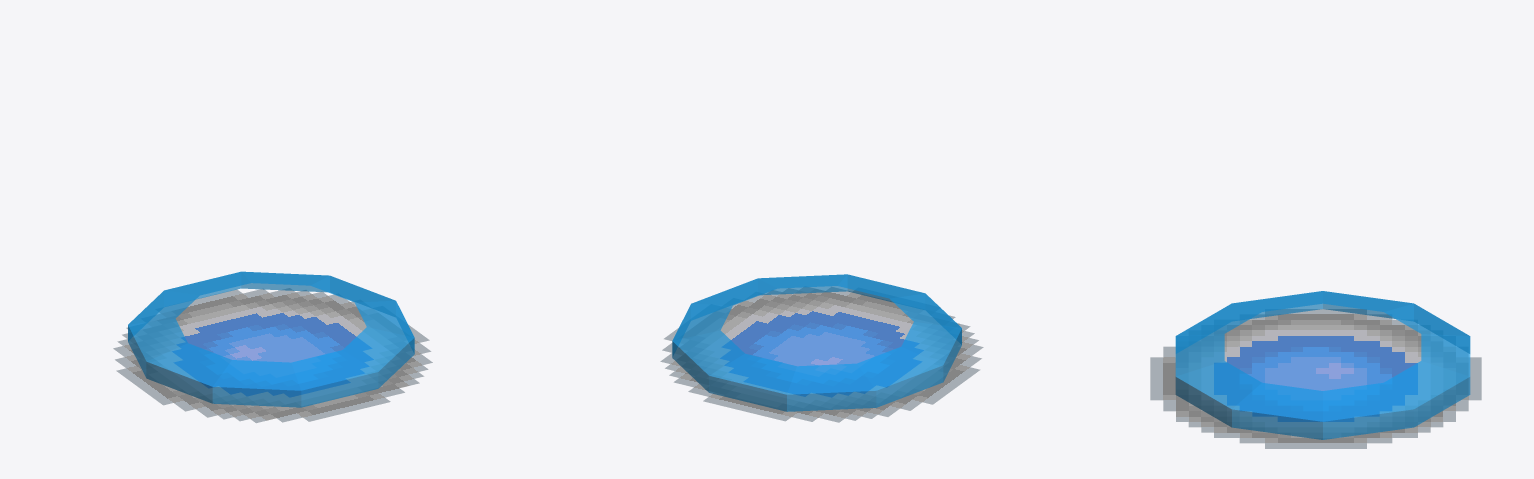
3 renders of one model, left to right at view 1: azimuth 30°, elevation 25°; view 2: azimuth 150°, elevation 25°; view 3: azimuth 270°, elevation 25°, orthographic. The views are drawn at different scales.
Parts seen in each view (by area): view 1: polygon4, polygon0; view 2: polygon4, polygon0; view 3: polygon4, polygon0.
Boxes of the visible parts, <box> form: polygon4: <box>113,288,432,423</box>; polygon0: <box>128,271,414,407</box>; polygon4: <box>660,287,983,422</box>; polygon0: <box>672,274,961,411</box>; polygon4: <box>1150,309,1481,448</box>; polygon0: <box>1175,291,1470,439</box>.
Size of the model in its own units: 8 by 6.5 by 8.
5 materials, 5 textured.
